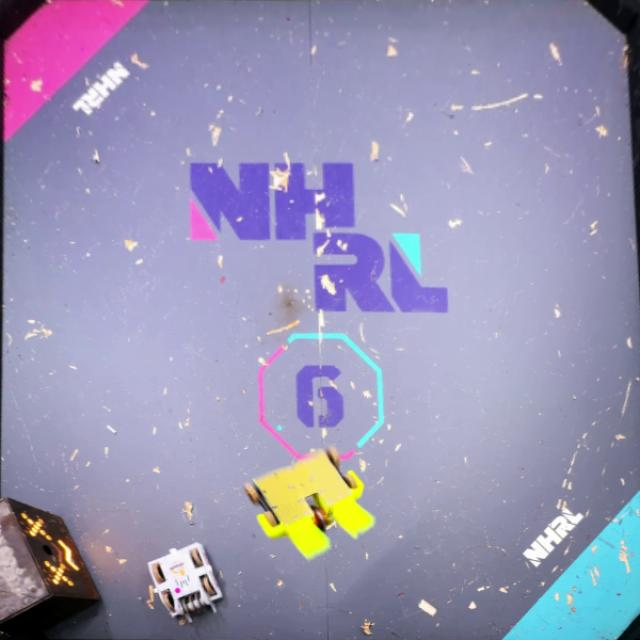housebot: (0, 496, 100, 640)
robot: (246, 448, 374, 558), (147, 541, 226, 621)
